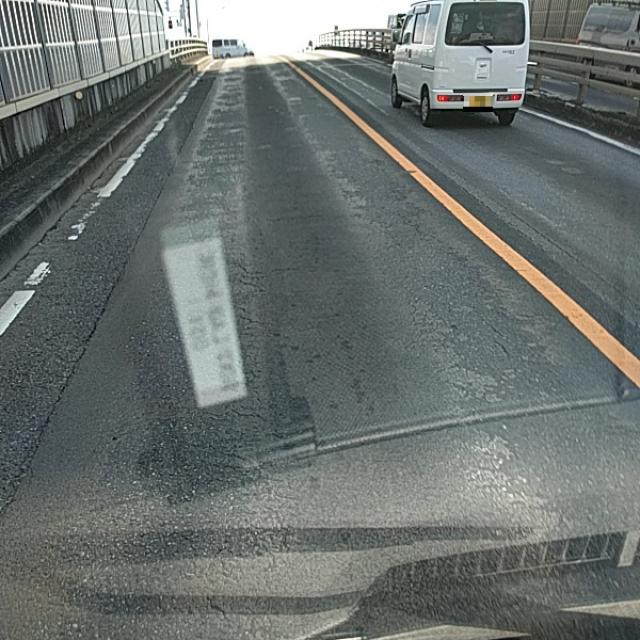pothole: (162, 403, 247, 525)
